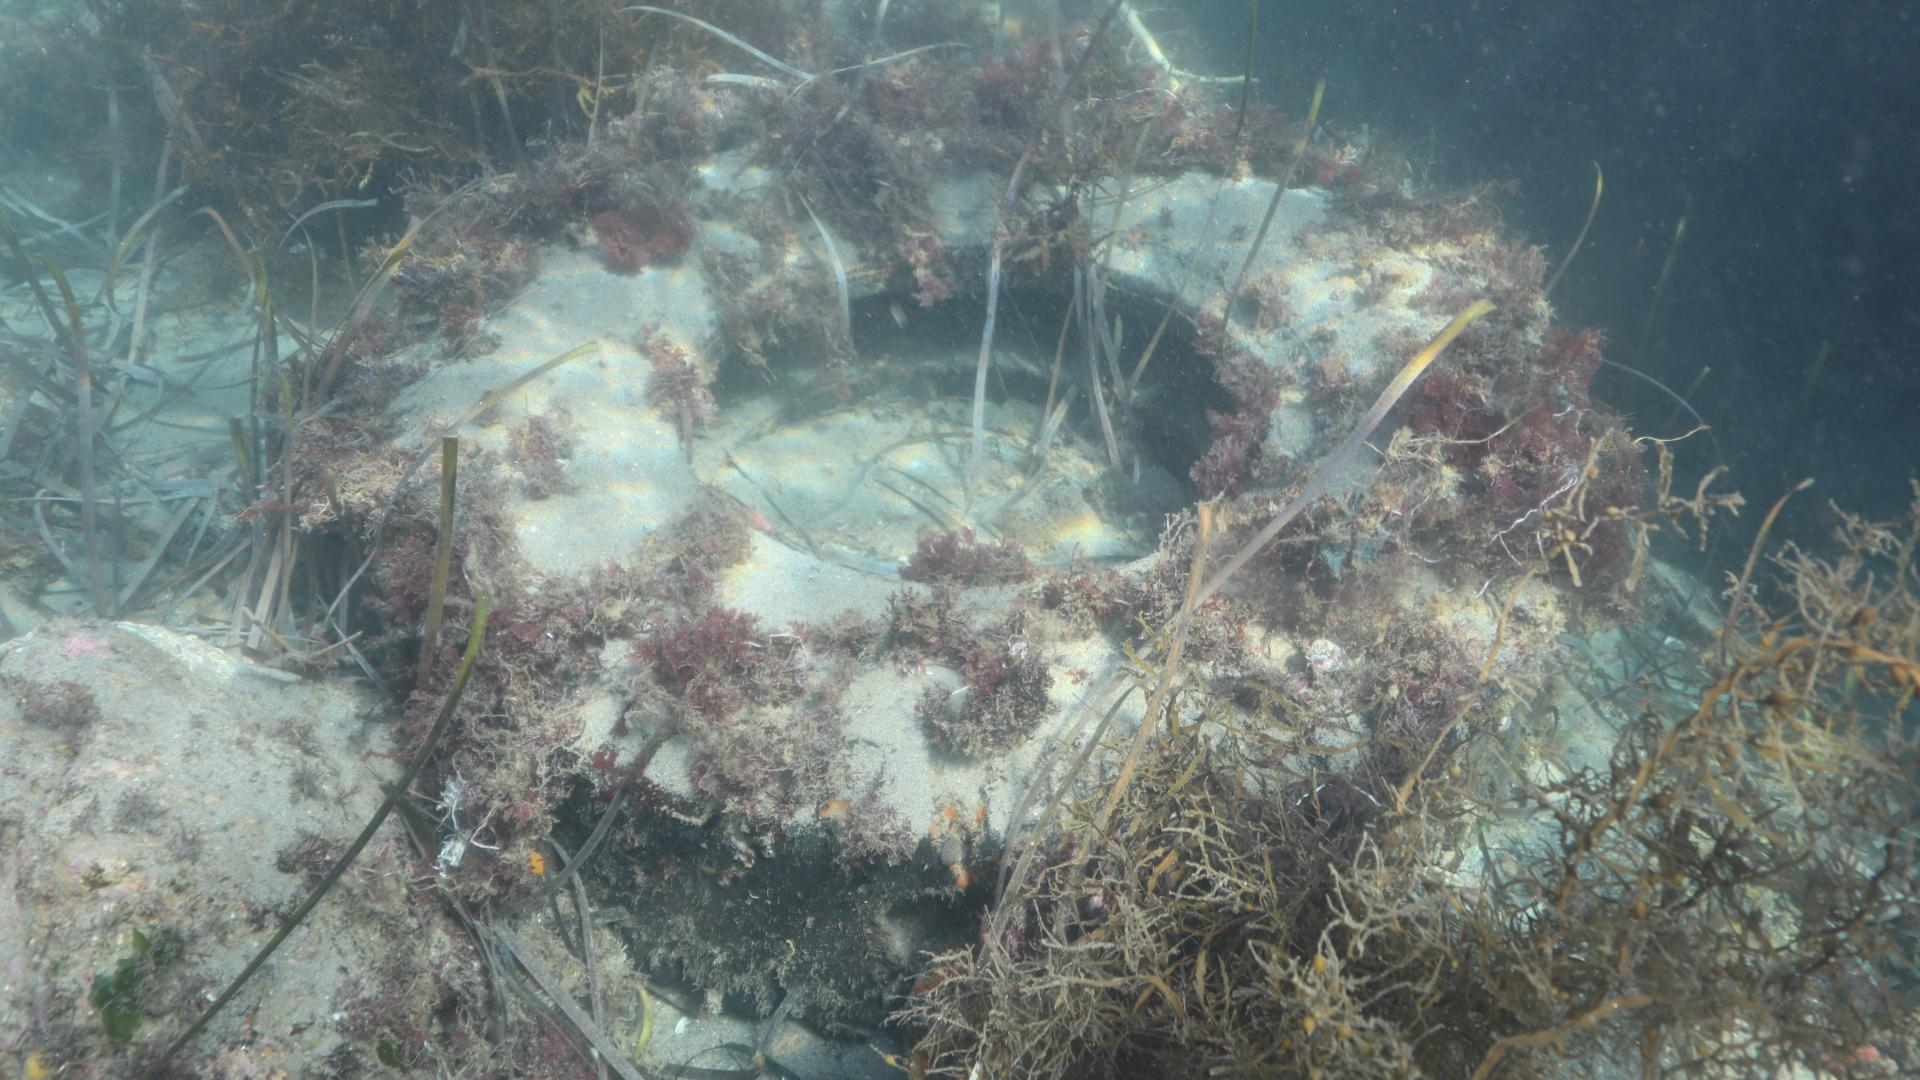tire: (364, 167, 1597, 1031)
